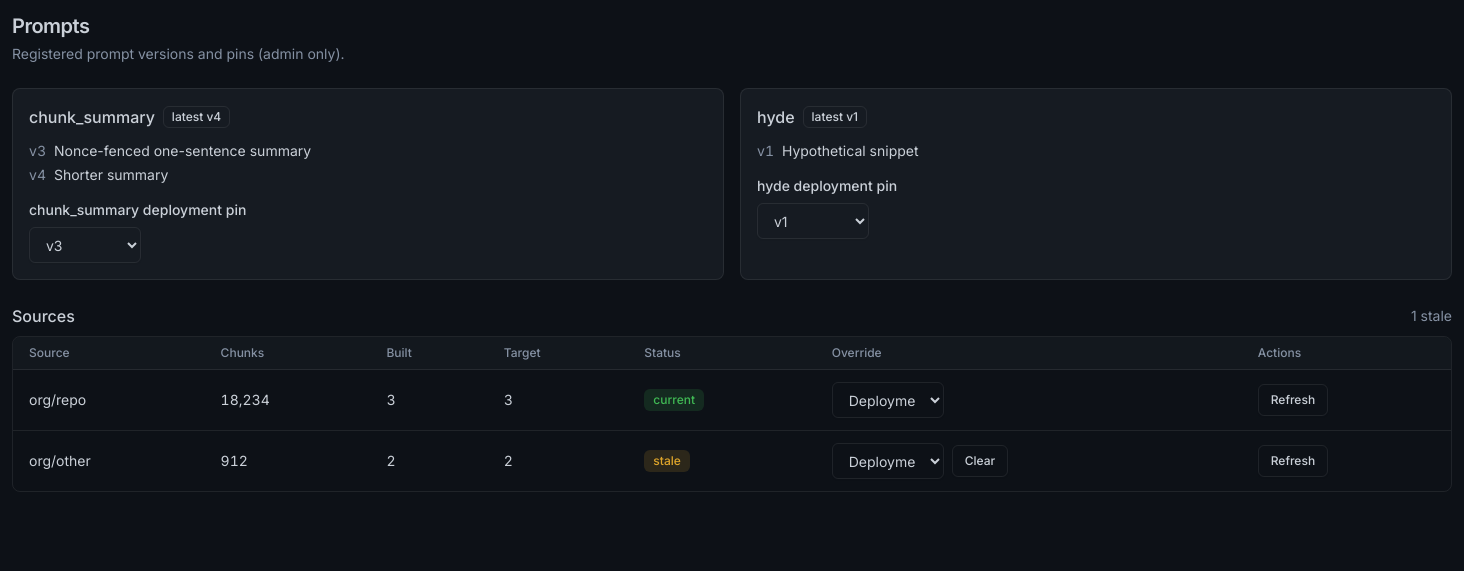
Scenario: PromptsPage › shows the valid versions on a 400 from the dry run
Expected: the heading "chunk_summary" is shown, [29,105,155,129]
Select "v4" in the dropdown labelled "chunk_summary deployment pin" at (85, 245), box [29,227,141,263]
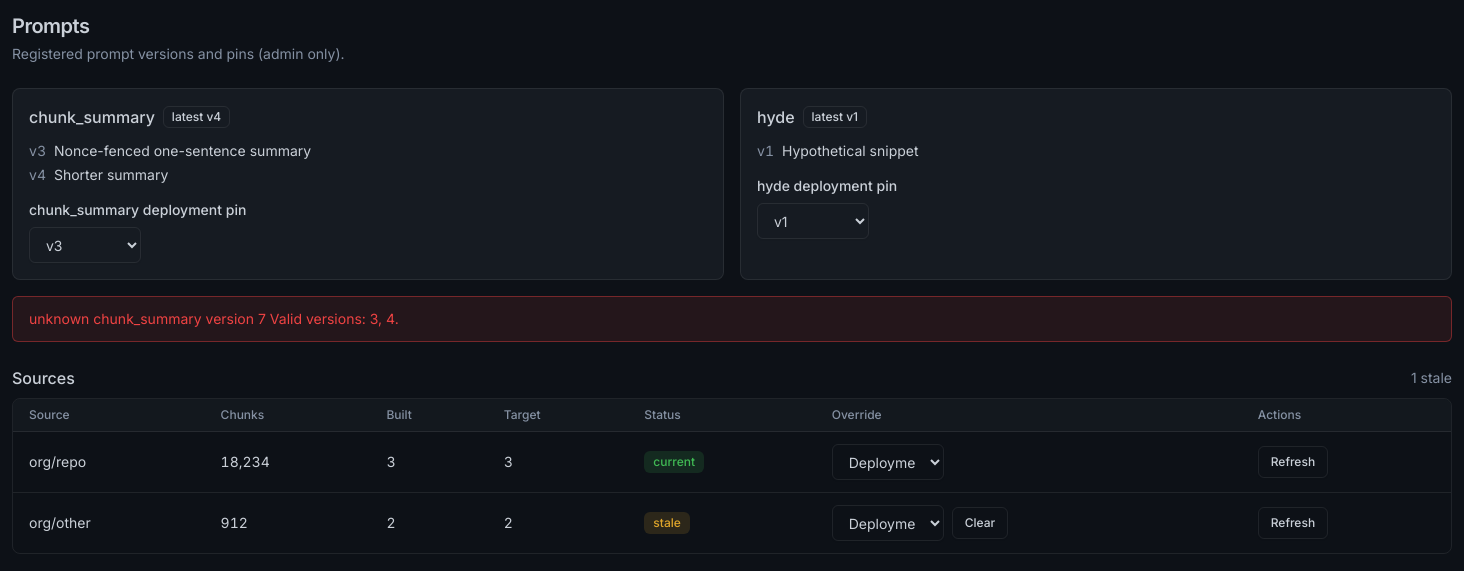
Now the text "unknown chunk_summary version 7 Valid versions: 3, 4." is shown, box [12,296,1452,342]
